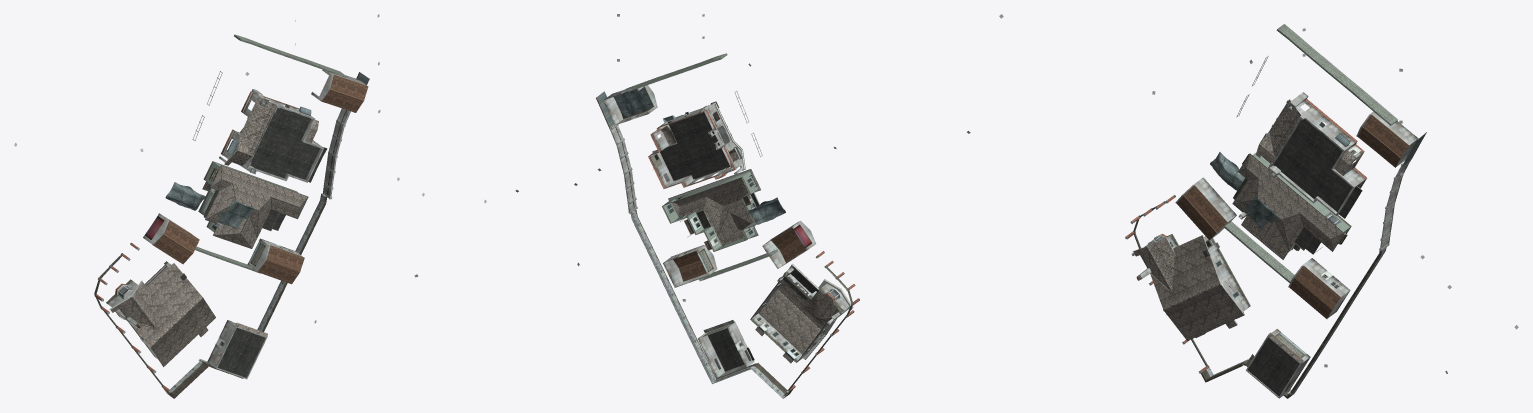
Rendered from SC11_res01.fbx.
The picture shows the model from 3 angles, left to right: view 1: azimuth 30°, elevation 25°; view 2: azimuth 150°, elevation 25°; view 3: azimuth 330°, elevation 25°; orthographic projection. The views are drawn at different scales.
Visible parts, largest first — view 1: sc1_11_res1_21; view 2: sc1_11_res1_21; view 3: sc1_11_res1_21.
Part boxes in pixels (box(x1,y1,x2,y2)): sc1_11_res1_21: box(94, 34, 369, 398); sc1_11_res1_21: box(596, 53, 859, 398); sc1_11_res1_21: box(1125, 24, 1426, 398).
Bounding box in the file's own units: 9321 × 6809 × 871.
